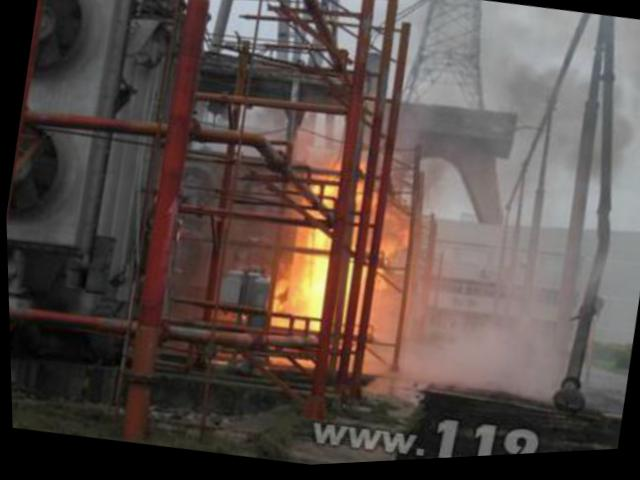fire: (267, 249, 327, 318), (373, 204, 411, 264), (290, 224, 330, 250), (263, 313, 287, 330), (318, 183, 336, 199), (318, 199, 332, 210)
